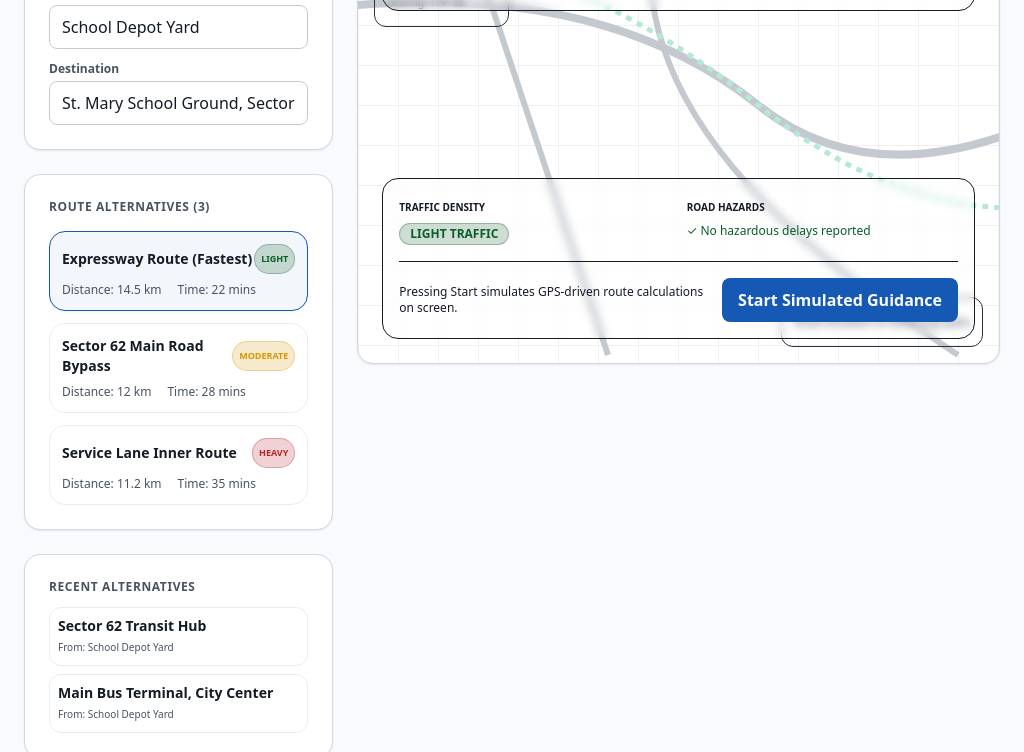
Scenario: NavigationPage MVP Component Tests › allows choosing a route option and updates display metrics
(page scrolled)
Step 1. Click the button "Sector 62 Main Road Bypass" → (179, 368), box [49, 323, 308, 413]
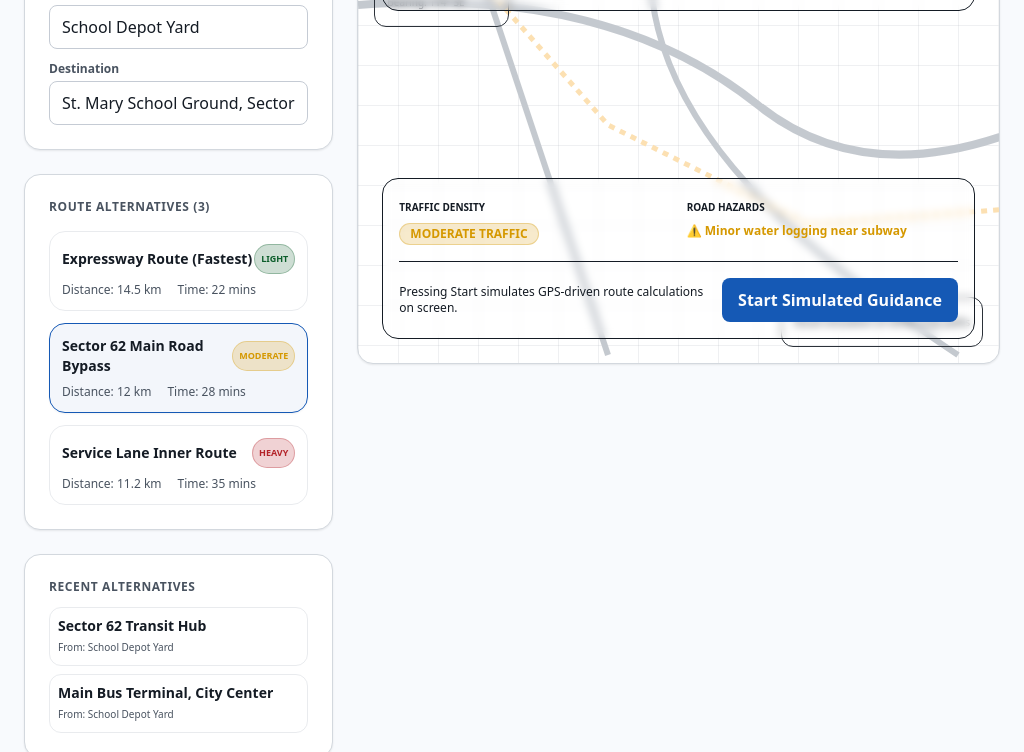
Expected: the text "MODERATE TRAFFIC" is shown, [399, 223, 539, 245]
Expected: the text "⚠️ Minor water logging near subway" is shown, [687, 222, 907, 239]
